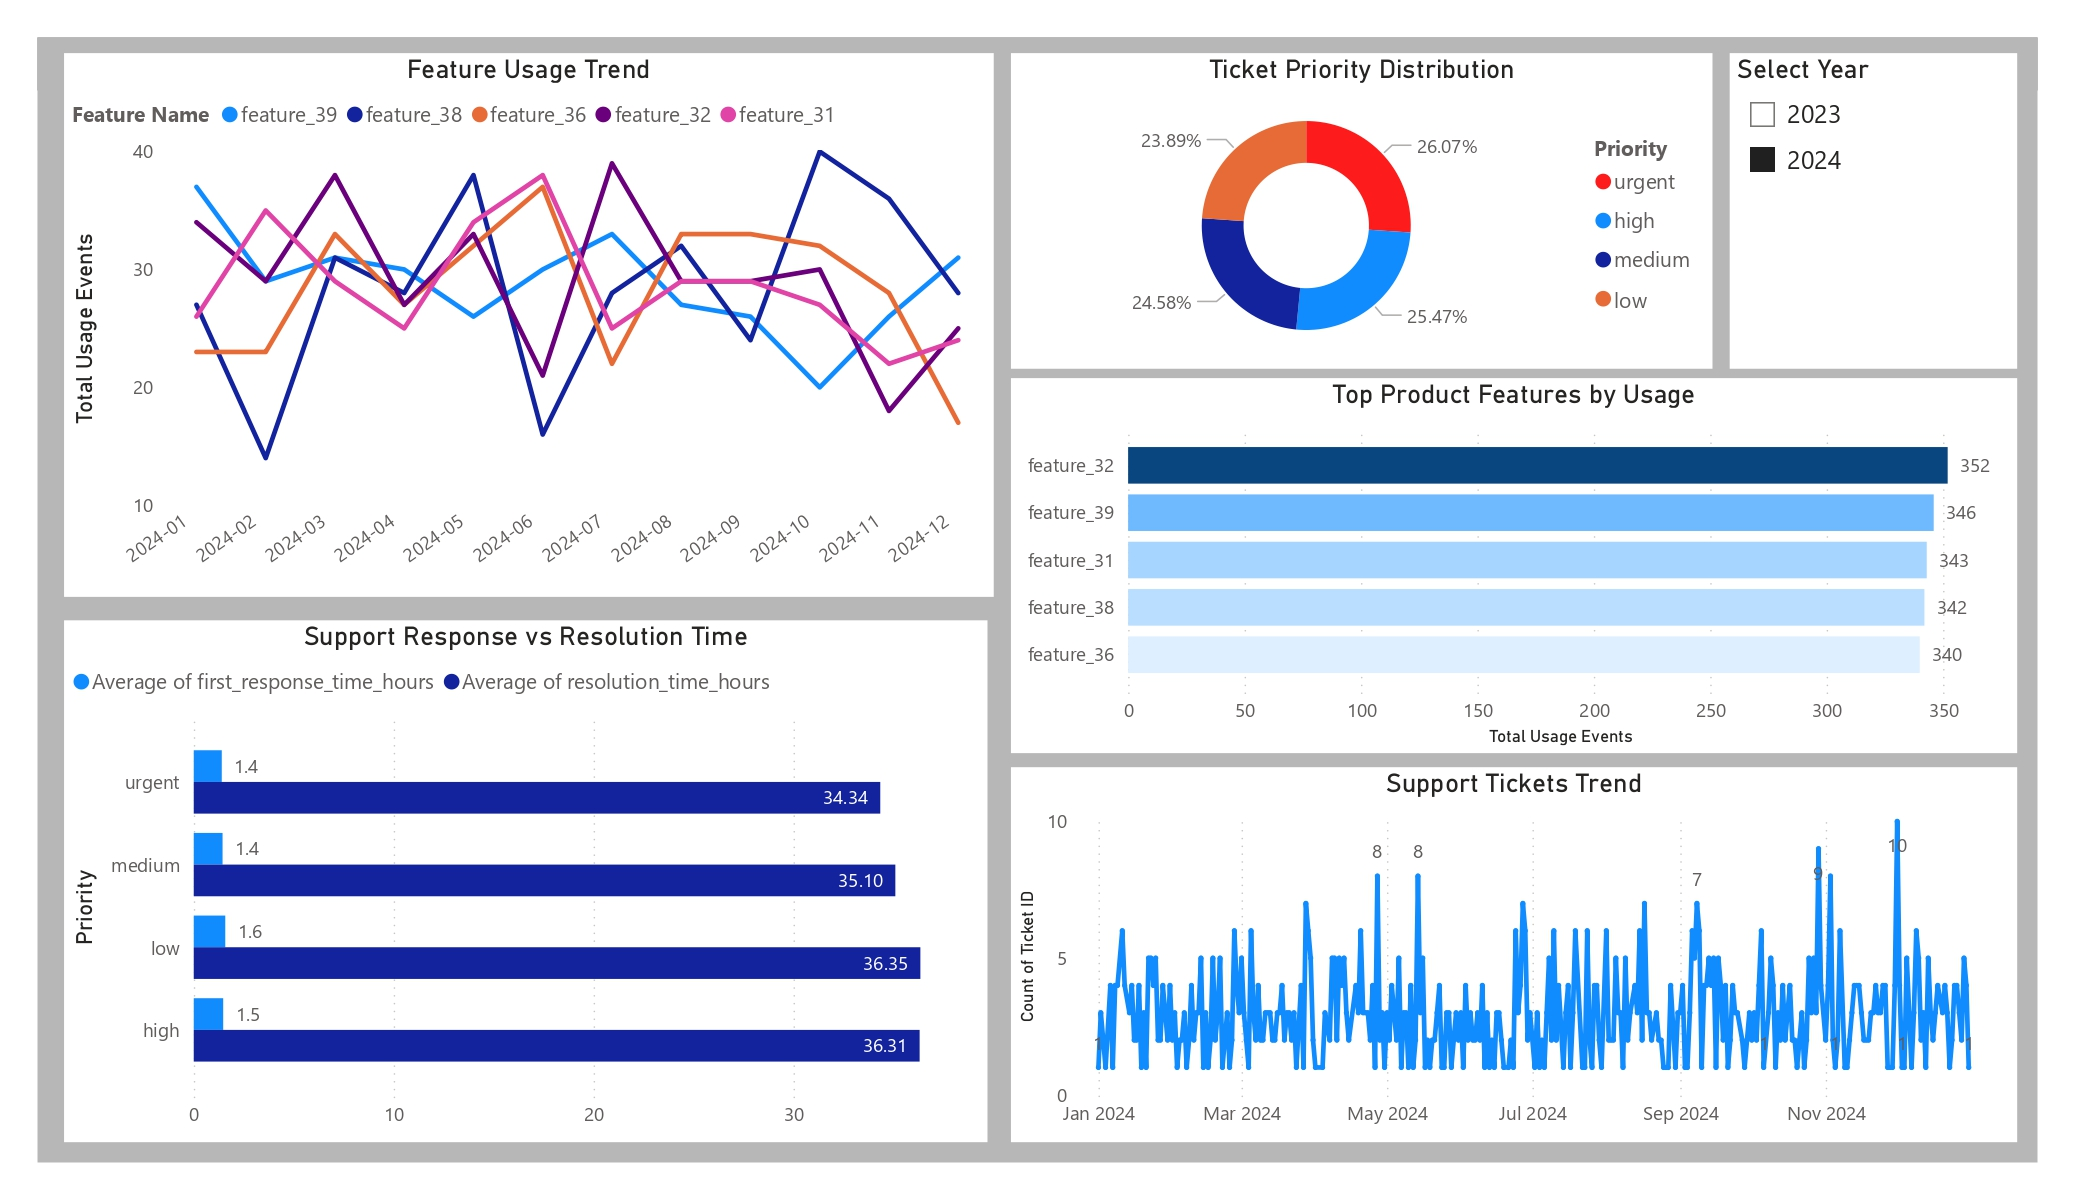

This screenshot's page, from the dashboard's own definition file:
{"tool":"powerbi","page":{"name":"Page 3","canvas":[1280,720],"ordinal":2},"visuals":[{"type":"lineChart","title":"Support Tickets Trend","fields":{"Category":["ravenstack_support_tickets.submitted_at"],"Y":["CountNonNull(ravenstack_support_tickets.ticket_id)"]},"box":[623.3,466.7,643.3,240],"z":0},{"type":"slicer","title":"Select Year","fields":{"Values":["DateTable.Year"]},"box":[1083.3,10,183.3,201.7],"z":1000},{"type":"donutChart","title":"Ticket Priority Distribution","fields":{"Category":["ravenstack_support_tickets.priority"],"Y":["CountNonNull(ravenstack_support_tickets.ticket_id)"]},"box":[623.3,10,448.3,201.7],"z":2000},{"type":"lineChart","title":"Feature Usage Trend","fields":{"Y":["ravenstack_feature_usage.Total Usage Events"],"Series":["ravenstack_feature_usage.feature_name"],"Category":["DateTable.YearMonth"]},"box":[16.7,10,595,348.3],"z":3000},{"type":"clusteredBarChart","title":"Support Response vs Resolution Time","fields":{"Category":["ravenstack_support_tickets.priority"],"Y":["Avg(ravenstack_support_tickets.first_response_time_hours)","Avg(ravenstack_support_tickets.resolution_time_hours)"]},"box":[16.7,373.3,591.7,333.3],"z":4000},{"type":"clusteredBarChart","title":"Top Product Features by Usage","fields":{"Category":["ravenstack_feature_usage.feature_name"],"Y":["ravenstack_feature_usage.Total Usage Events"]},"box":[623.3,218.3,643.3,240],"z":5000}]}

Visuals, with their boxes on the page's 1280x720 design canvas (x1, y1, x2, y2). These are canvas units, not pixel positions in the 2075x1200 screenshot, which may show the page scaled, cropped or inside an application window:
"Support Tickets Trend" lineChart: left=623, top=467, right=1267, bottom=707
"Select Year" slicer: left=1083, top=10, right=1267, bottom=212
"Ticket Priority Distribution" donutChart: left=623, top=10, right=1072, bottom=212
"Feature Usage Trend" lineChart: left=17, top=10, right=612, bottom=358
"Support Response vs Resolution Time" clusteredBarChart: left=17, top=373, right=608, bottom=707
"Top Product Features by Usage" clusteredBarChart: left=623, top=218, right=1267, bottom=458
